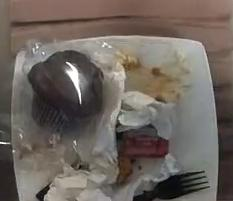muffin: (25, 47, 103, 132)
